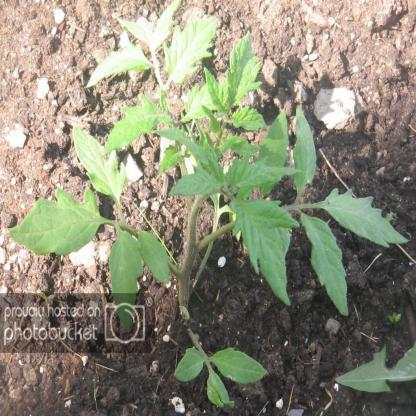Tomato leaf bacterial spot: (234, 196, 296, 312), (12, 190, 102, 264), (318, 185, 409, 252), (100, 228, 148, 334), (66, 121, 126, 204), (160, 14, 220, 85), (98, 99, 159, 158), (225, 37, 261, 115), (226, 158, 300, 194), (294, 103, 321, 201), (208, 343, 270, 383), (136, 231, 172, 294), (178, 82, 223, 123), (174, 172, 228, 206), (168, 342, 210, 380), (201, 70, 229, 120), (204, 370, 232, 407), (228, 109, 269, 133)
